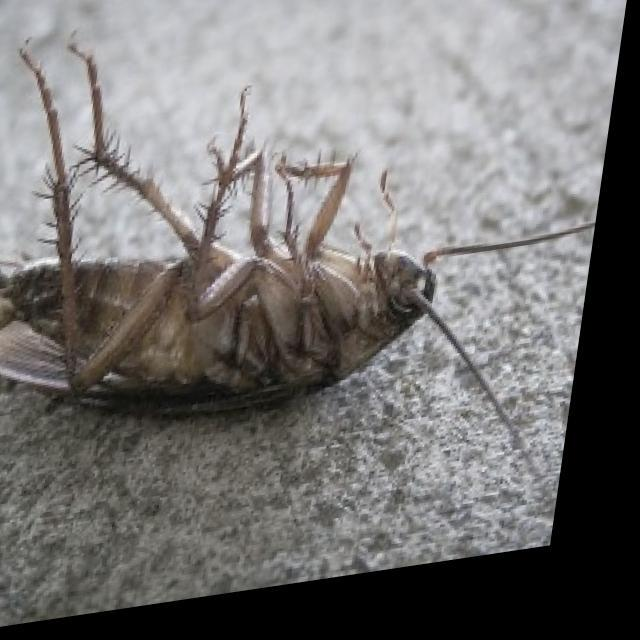cockroach: (0, 30, 597, 447)
